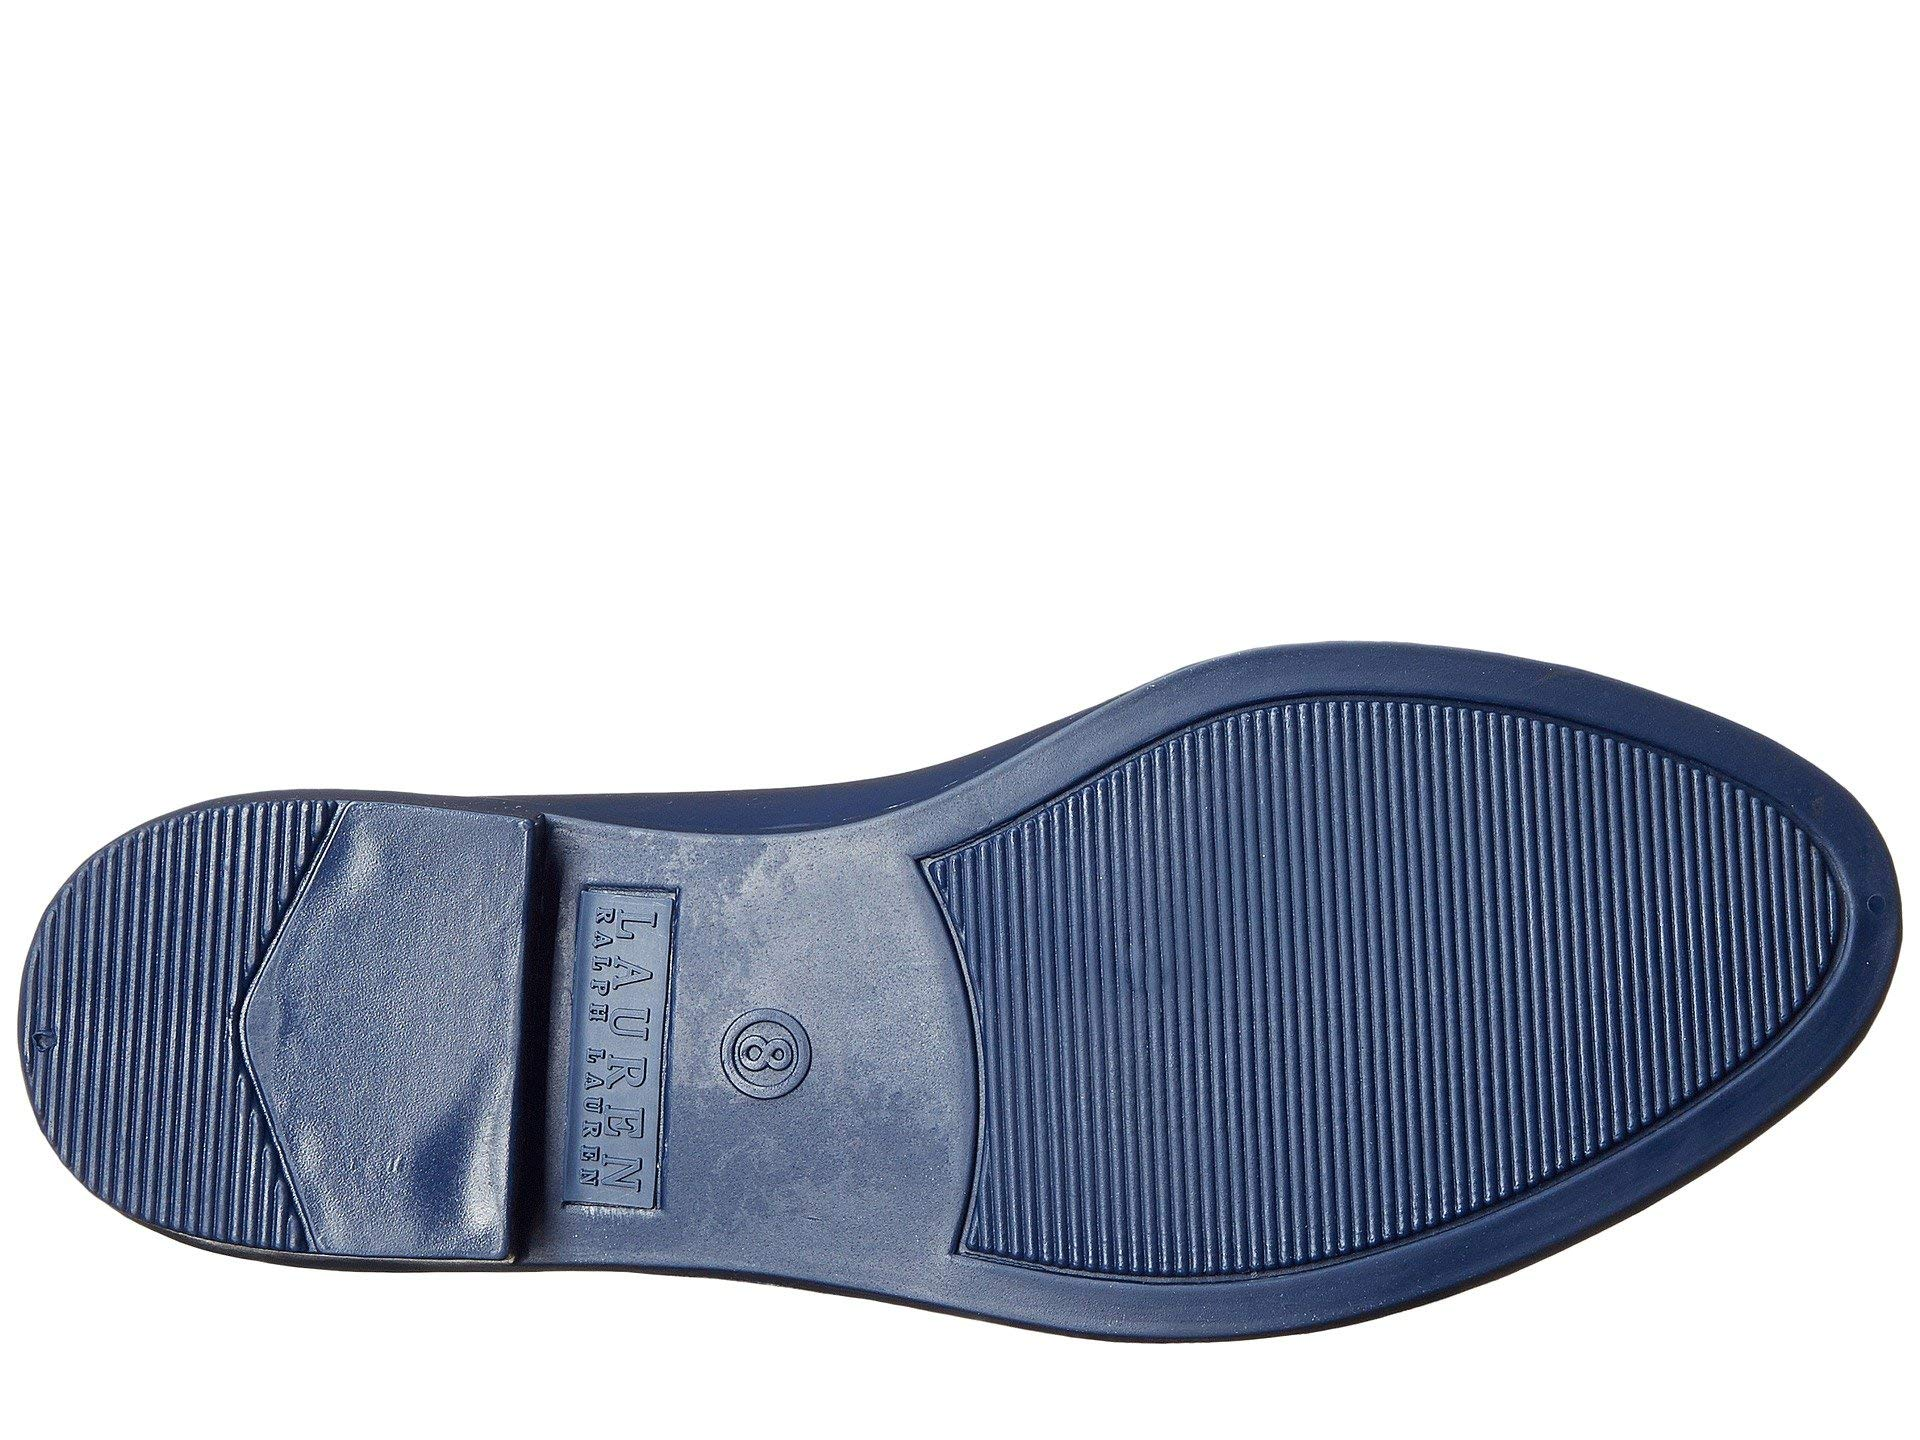chevron: (85, 908, 379, 1177)
circle: (531, 868, 887, 1243)
line: (85, 908, 379, 1177), (1107, 874, 1296, 1122)
quad: (531, 868, 887, 1243)
text: (531, 868, 887, 1243)
